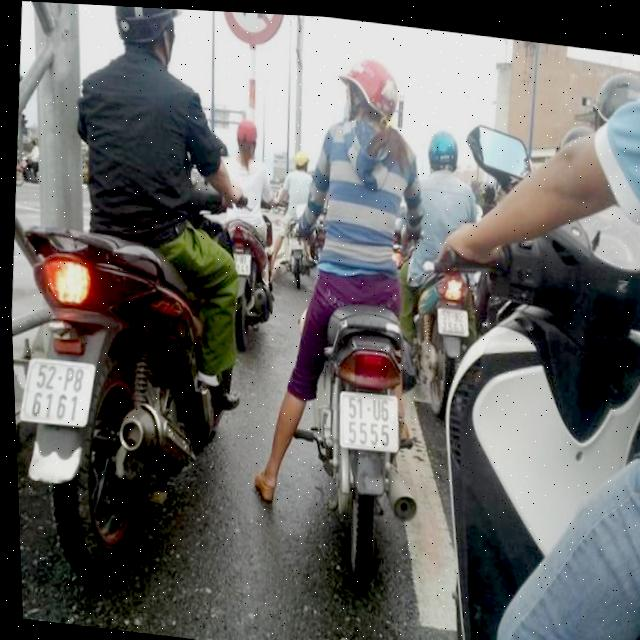motorcycle: (7, 191, 257, 599), (279, 265, 442, 599), (206, 205, 279, 350), (328, 381, 404, 464)
plate: (14, 348, 101, 436), (331, 386, 404, 460), (432, 300, 472, 342), (227, 244, 258, 281)
